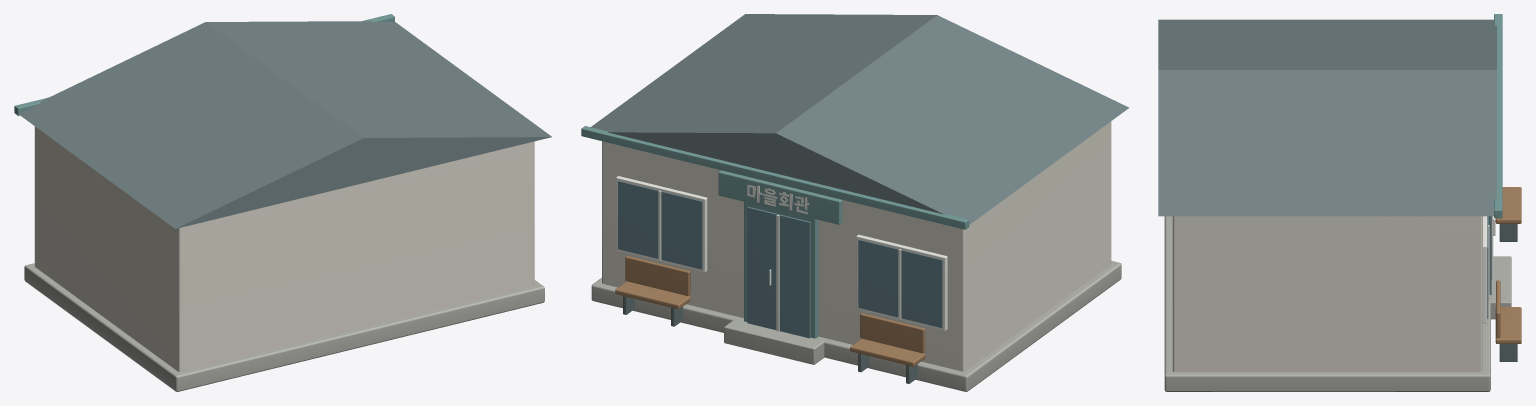
File: service-village-hall.glb
3 views of the same model, side by side, from view 1: azimuth 30°, elevation 25°; view 2: azimuth 150°, elevation 25°; view 3: azimuth 270°, elevation 25° (orthographic). The views are drawn at different scales.
Visible parts, largest first — view 1: Hall walls, Pitched roof, Hall base; view 2: Pitched roof, Hall walls, Hall base, Hall glass door, Hall front window glazing, Hall front window glazing.001, Front eave, Hall name board, Hall doorstep, Bench back, Bench back.001, Hall entry frame (+5 smaller); view 3: Pitched roof, Hall walls, Hall base, Front eave, Hall doorstep, Bench seat.001, Bench seat, Hall front window frame.001, Bench leg.001, Bench leg.003.
Part boxes in pixels (left/top/right/bottom): Hall walls: left=34, top=126, right=534, bottom=371; Pitched roof: left=18, top=21, right=551, bottom=228; Hall base: left=24, top=263, right=544, bottom=391; Pitched roof: left=591, top=14, right=1129, bottom=224; Hall walls: left=602, top=121, right=1111, bottom=371; Hall base: left=591, top=260, right=1121, bottom=391; Hall glass door: left=747, top=206, right=810, bottom=338; Hall front window glazing: left=858, top=239, right=942, bottom=328; Hall front window glazing.001: left=618, top=181, right=702, bottom=269; Front eave: left=581, top=126, right=969, bottom=229; Hall name board: left=718, top=170, right=842, bottom=224; Hall doorstep: left=724, top=317, right=824, bottom=364; Bench back: left=860, top=313, right=925, bottom=353; Bench back.001: left=625, top=256, right=690, bottom=296; Hall entry frame: left=744, top=202, right=818, bottom=338; Pitched roof: left=1158, top=19, right=1496, bottom=216; Hall walls: left=1172, top=216, right=1482, bottom=371; Hall base: left=1164, top=216, right=1490, bottom=391; Front eave: left=1494, top=14, right=1502, bottom=218; Hall doorstep: left=1488, top=256, right=1511, bottom=319; Bench seat.001: left=1495, top=307, right=1521, bottom=343; Bench seat: left=1495, top=187, right=1521, bottom=223; Hall front window frame.001: left=1483, top=216, right=1487, bottom=323; Bench leg.001: left=1499, top=224, right=1517, bottom=241; Bench leg.003: left=1499, top=344, right=1517, bottom=361.
Size of the model in its own units: 7.2 by 3.87 by 5.62.
